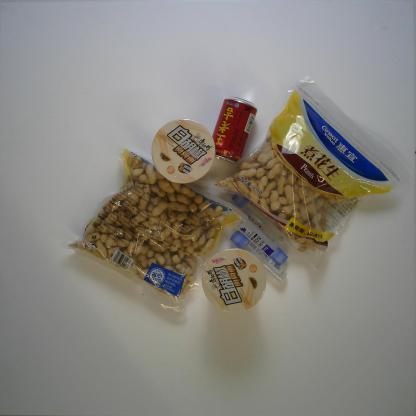Dried Food: (216, 72, 410, 270), (63, 140, 248, 312)
Drink: (210, 95, 258, 165)
Instant Noodles: (199, 245, 268, 315), (150, 117, 219, 186)
Stationery: (228, 207, 288, 266), (230, 191, 287, 246), (229, 231, 288, 284)
